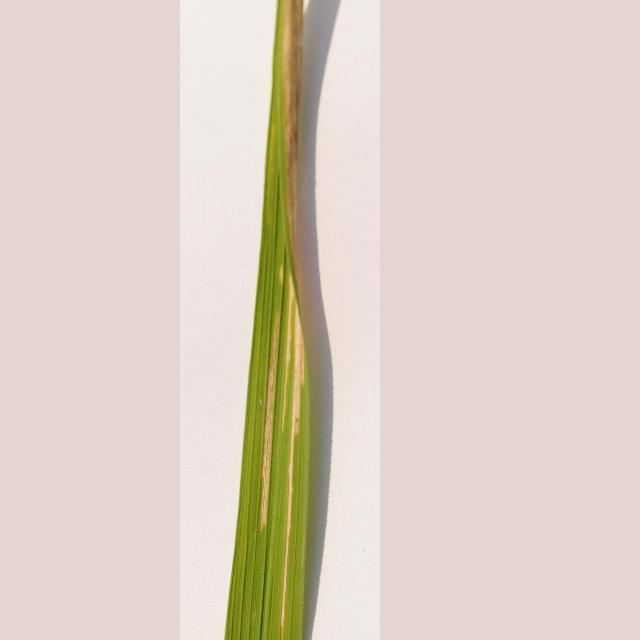Bacterial_Leaf_Blight: (246, 28, 336, 640)
